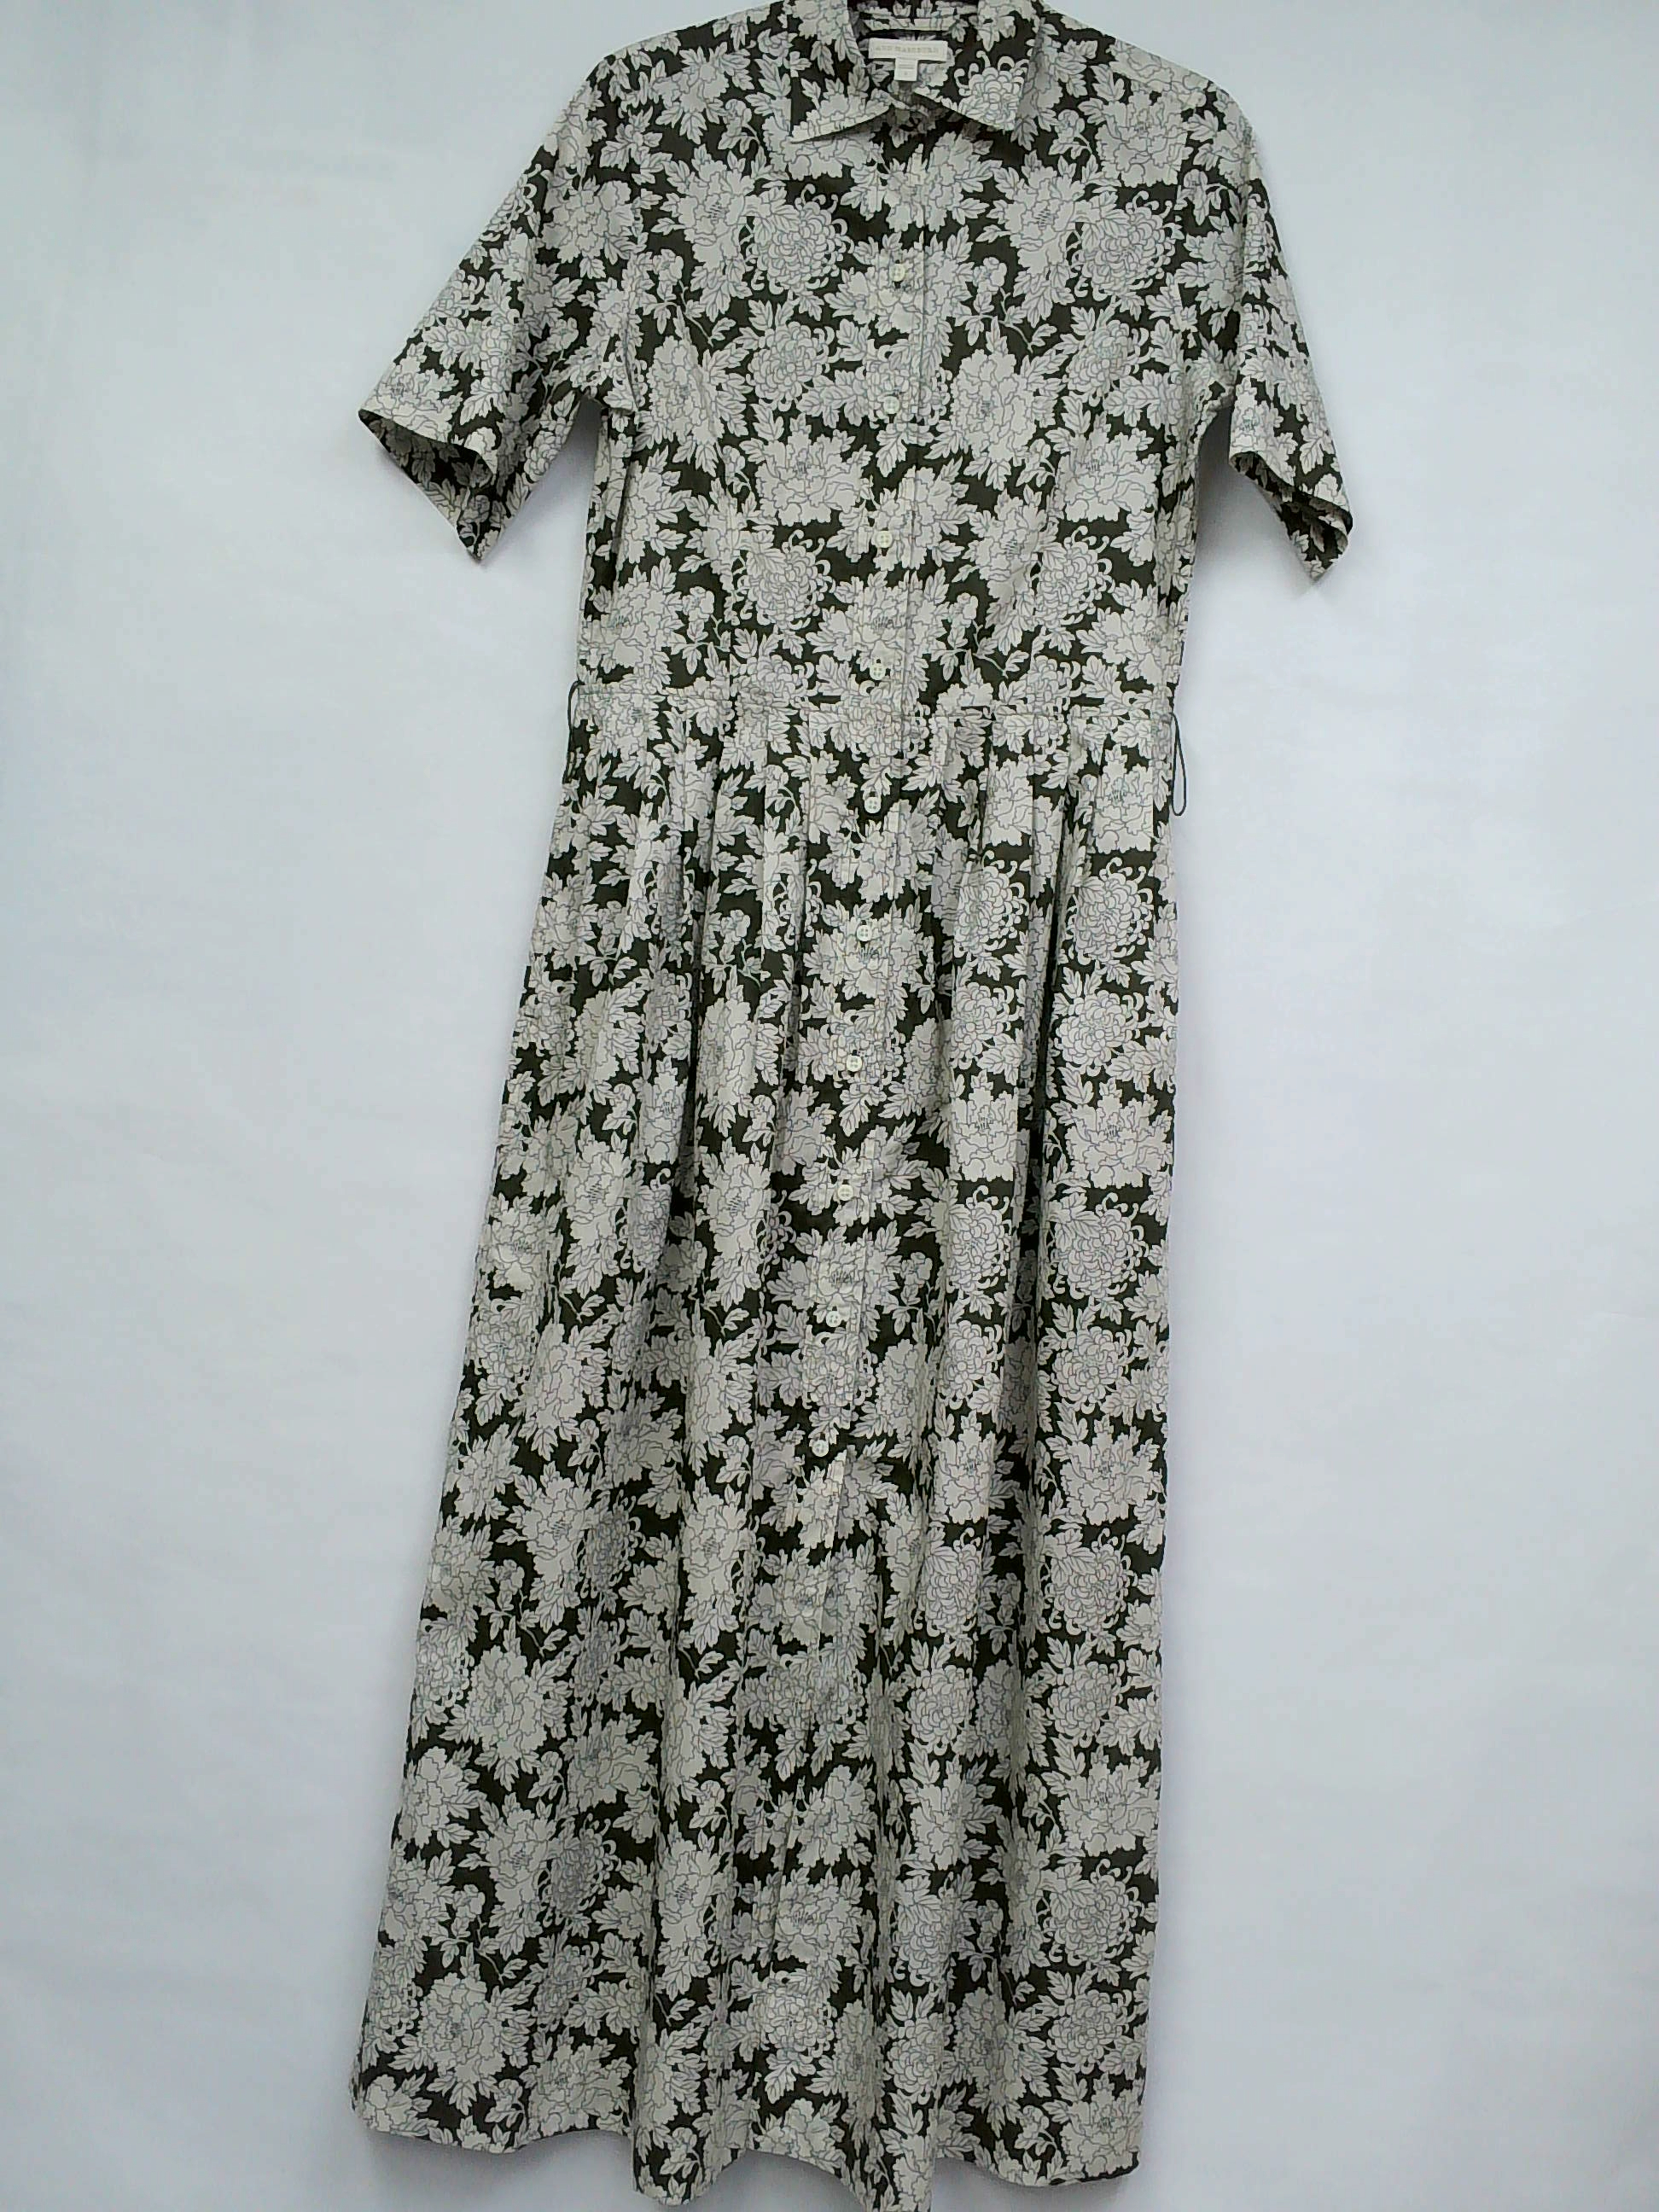bad_fabric: (570, 667, 1175, 730)
